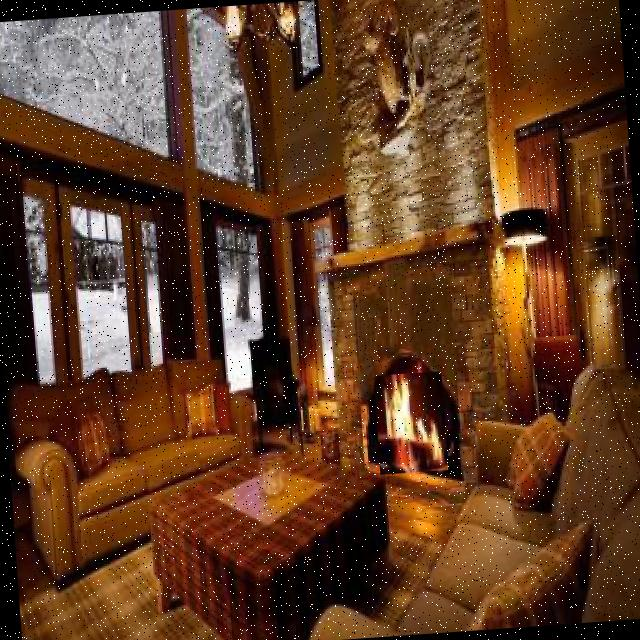fire: (373, 370, 448, 474)
